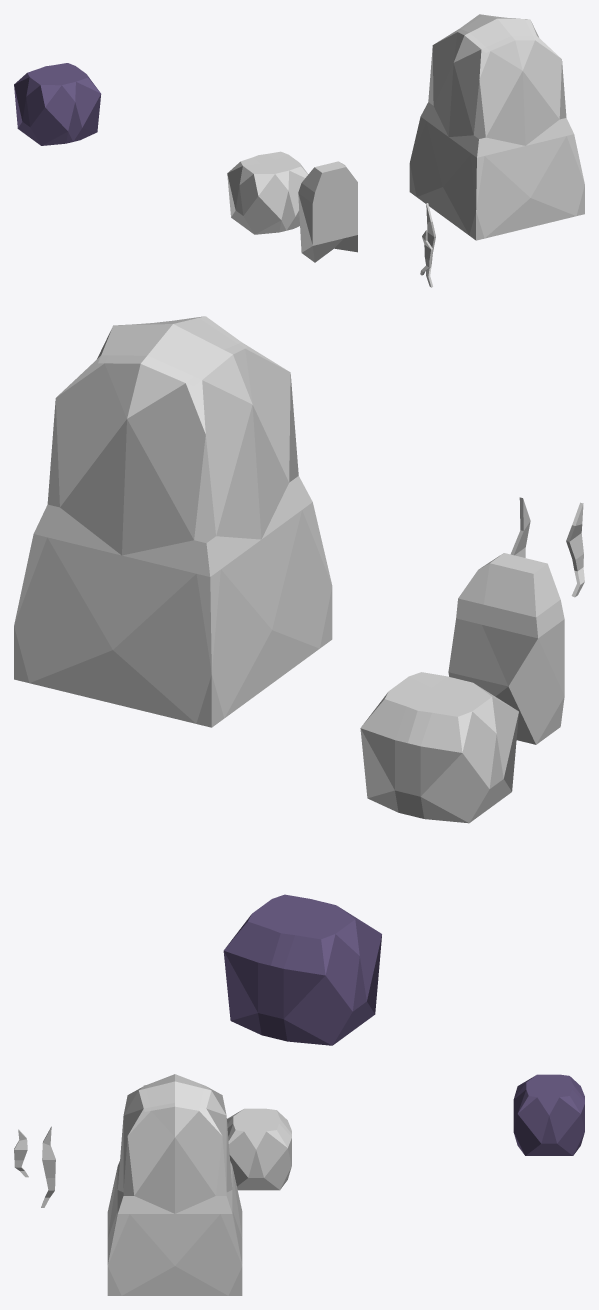
Rendered from Rocks3.fbx.
3 views of the same model, one above another, from view 1: azimuth 30°, elevation 25°; view 2: azimuth 150°, elevation 25°; view 3: azimuth 270°, elevation 25° (orthographic). The views are drawn at different scales.
Parts seen in each view (by area): view 1: Big Rock.001, Little Rock, Little Rock 1, Long S Rock 1, Kelp 2.001; view 2: Big Rock.001, Little Rock 1, Little Rock, Long S Rock 1, Kelp 1.001; view 3: Big Rock.001, Little Rock, Little Rock 1, Kelp 2.001, Kelp 1.001.
Boxes of the visible parts, bbox=[...] form: Big Rock.001: bbox=[409, 14, 584, 240]; Little Rock: bbox=[14, 63, 101, 145]; Little Rock 1: bbox=[227, 151, 308, 234]; Long S Rock 1: bbox=[298, 161, 357, 262]; Kelp 2.001: bbox=[426, 203, 435, 287]; Big Rock.001: bbox=[14, 316, 332, 727]; Little Rock 1: bbox=[360, 672, 518, 823]; Little Rock: bbox=[223, 894, 381, 1045]; Long S Rock 1: bbox=[448, 553, 564, 744]; Kelp 1.001: bbox=[566, 502, 584, 597]; Big Rock.001: bbox=[107, 1074, 242, 1295]; Little Rock: bbox=[513, 1074, 584, 1155]; Little Rock 1: bbox=[227, 1108, 291, 1190]; Kelp 2.001: bbox=[41, 1126, 55, 1207]; Kelp 1.001: bbox=[14, 1129, 28, 1177].
Size of the model in its own units: 1855 by 980 by 2646.
